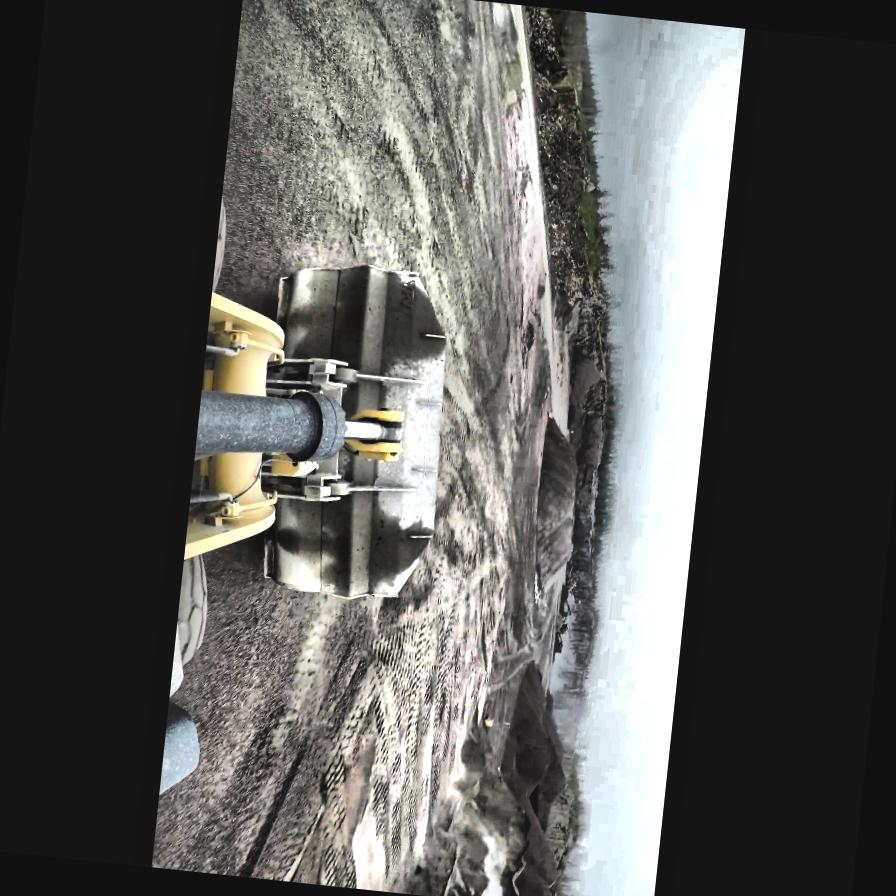anchor: (340, 406, 406, 462)
pile of gravel: (415, 686, 550, 896), (528, 412, 586, 590), (499, 669, 566, 816), (527, 707, 574, 834), (561, 348, 609, 462), (503, 819, 562, 896), (514, 662, 551, 726)
